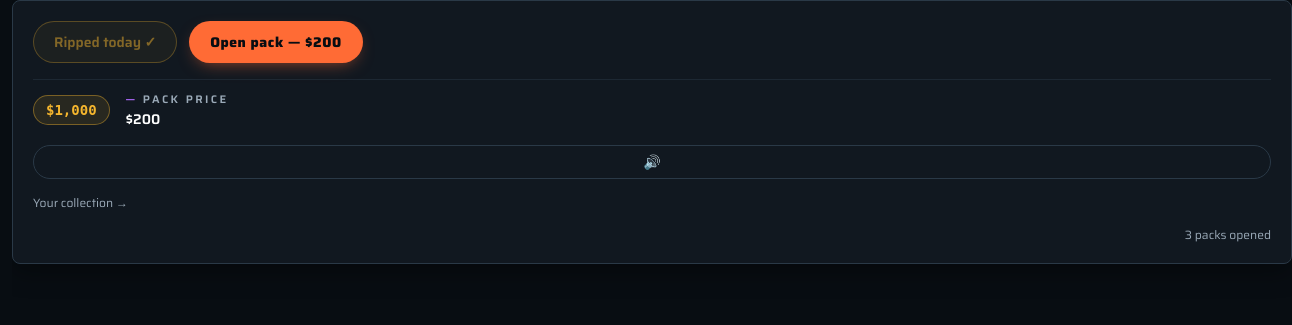
Scenario: PackShop › surfaces the action's error and opens nothing
Click the button "Open pack — $200".
click(276, 42)  # box [189,21,363,63]
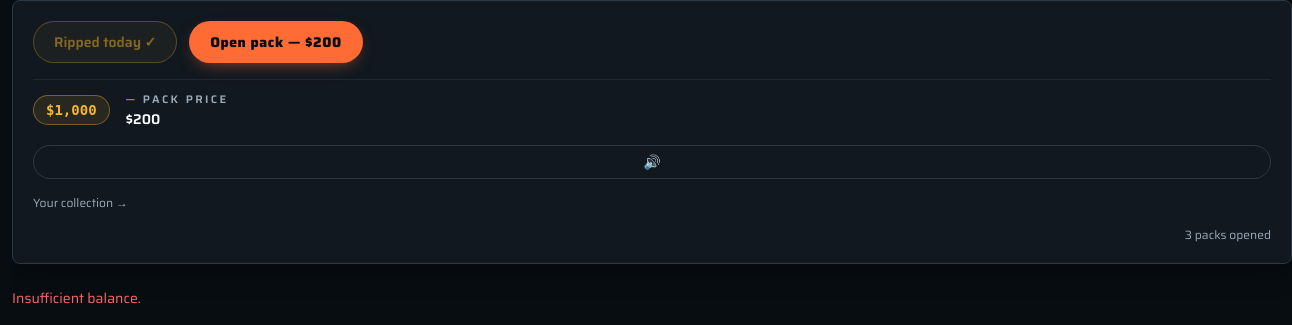
expect the link "$1,000" is shown: met, box [33,95,110,125]
expect the text "Insufficient balance." is shown: met, box [12,286,141,308]
